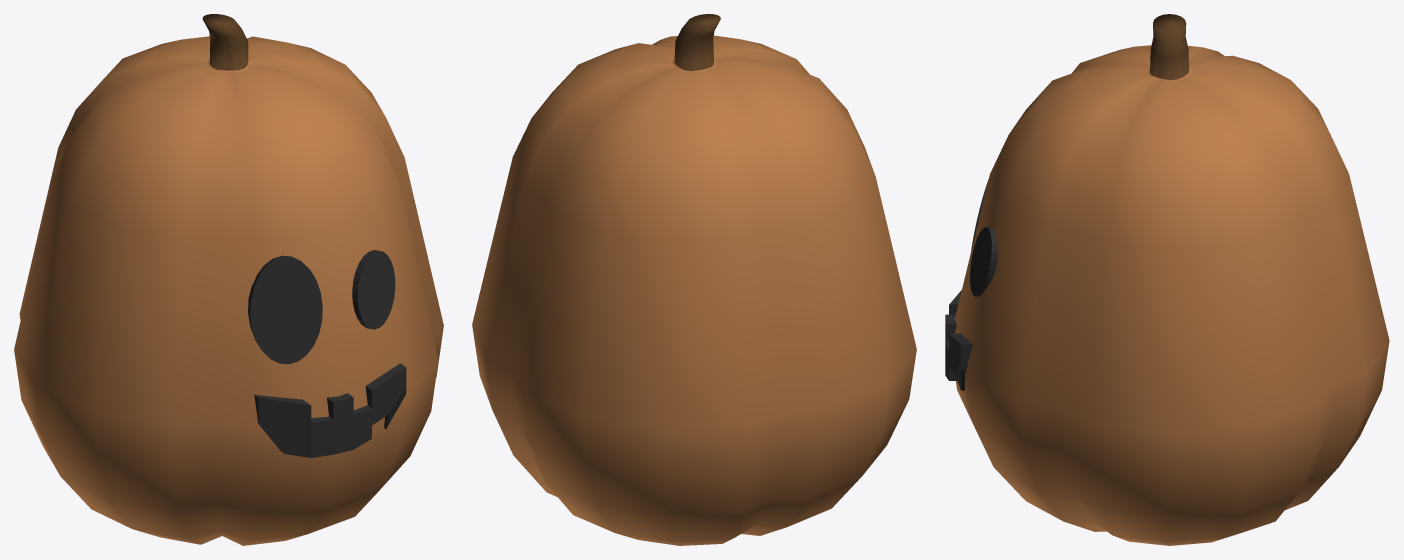
File: JackOLantern2.glb
3 renders of one model, left to right at view 1: azimuth 30°, elevation 25°; view 2: azimuth 150°, elevation 25°; view 3: azimuth 270°, elevation 25°, orthographic. The views are drawn at different scales.
Visible parts, largest first — view 1: Jack-O-Lantern 2; view 2: Jack-O-Lantern 2; view 3: Jack-O-Lantern 2.
Boxes of the visible parts, box(x1,y1,x2,y2) form: Jack-O-Lantern 2: box(14, 14, 443, 545); Jack-O-Lantern 2: box(472, 14, 916, 545); Jack-O-Lantern 2: box(945, 14, 1389, 545).
Size of the model in its own units: 0.3126 by 0.383 by 0.3155.
